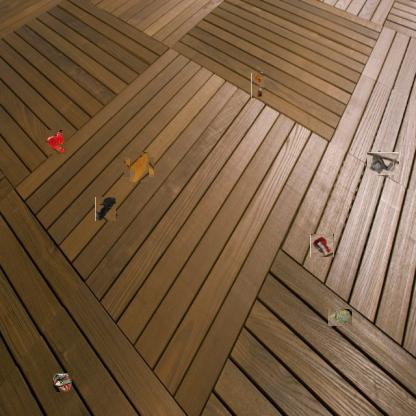dirty: (370, 150, 397, 178), (310, 234, 334, 257), (95, 198, 117, 221), (328, 310, 352, 328), (52, 372, 72, 392), (251, 72, 264, 98)
liquid: (126, 155, 152, 179), (46, 130, 66, 154)
